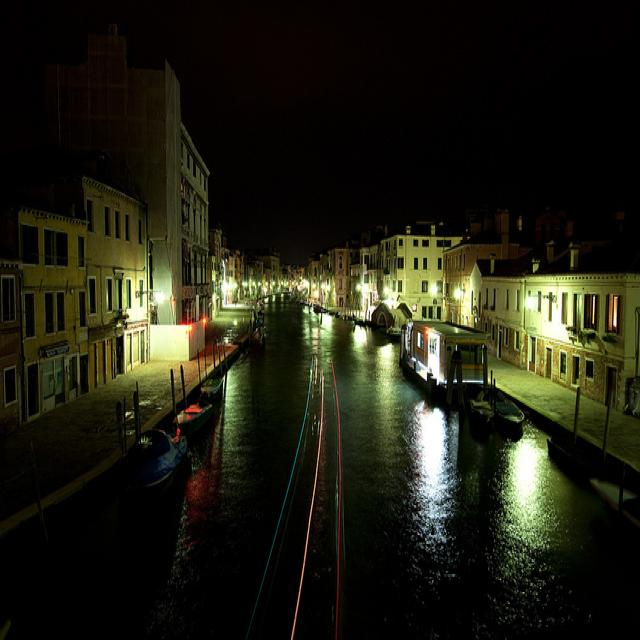Boat: (395, 315, 504, 401), (112, 420, 182, 524), (161, 374, 245, 445), (471, 370, 521, 450)
